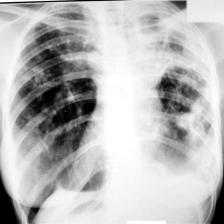tuberculosis: (7, 4, 216, 218)
